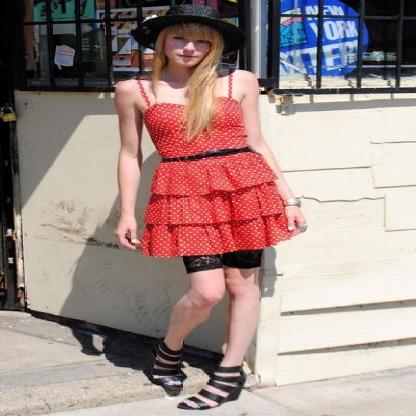dress: (138, 92, 306, 256)
hat: (129, 10, 250, 58)
shoe: (145, 341, 254, 409)
shorts: (181, 249, 261, 273)
